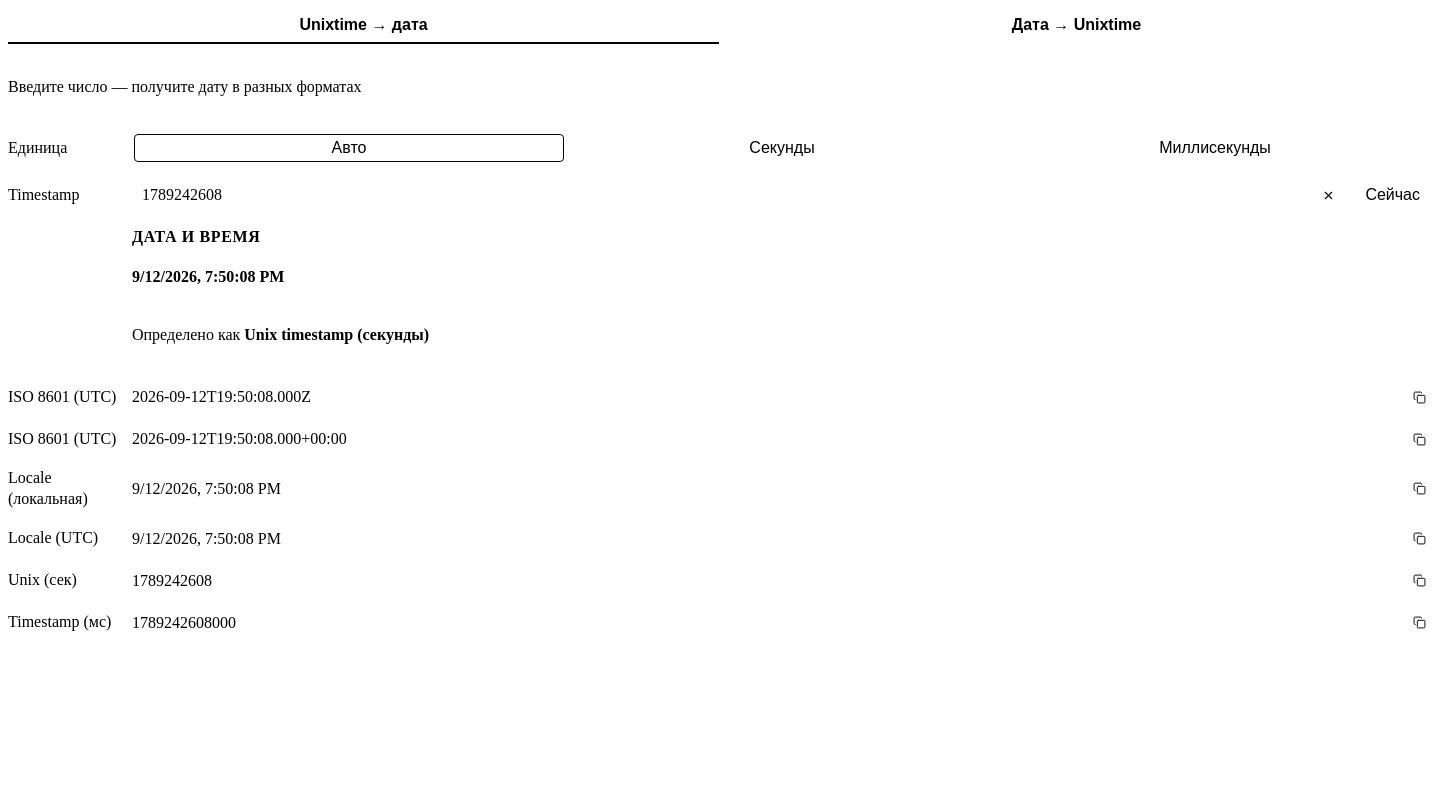
UnixtimeConverter › пустое поле не считается нулём
Click the tab "Дата → Unixtime" at (1076, 26), box [721, 8, 1432, 44]
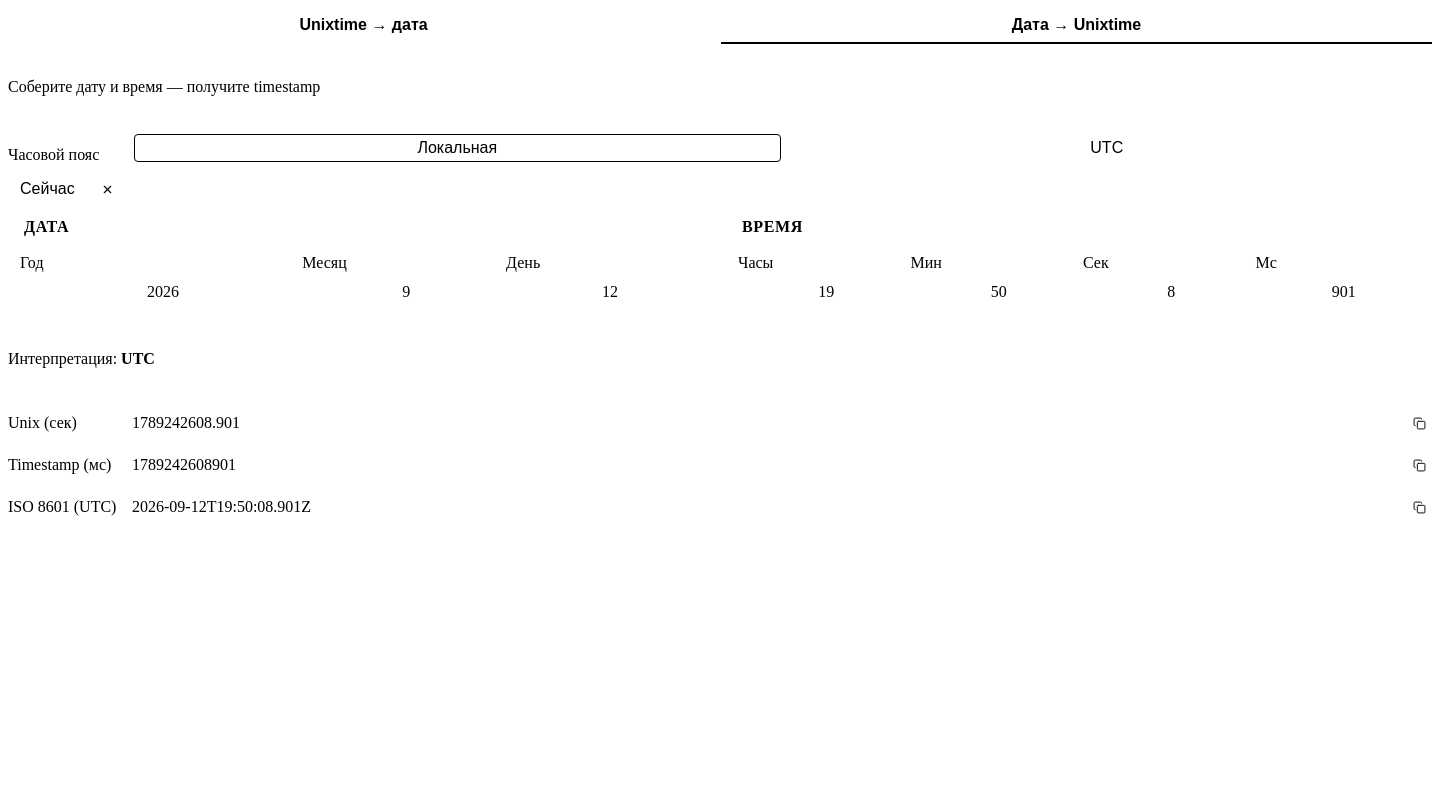
Clear the field labelled "Год" at (163, 292), box [20, 276, 306, 308]
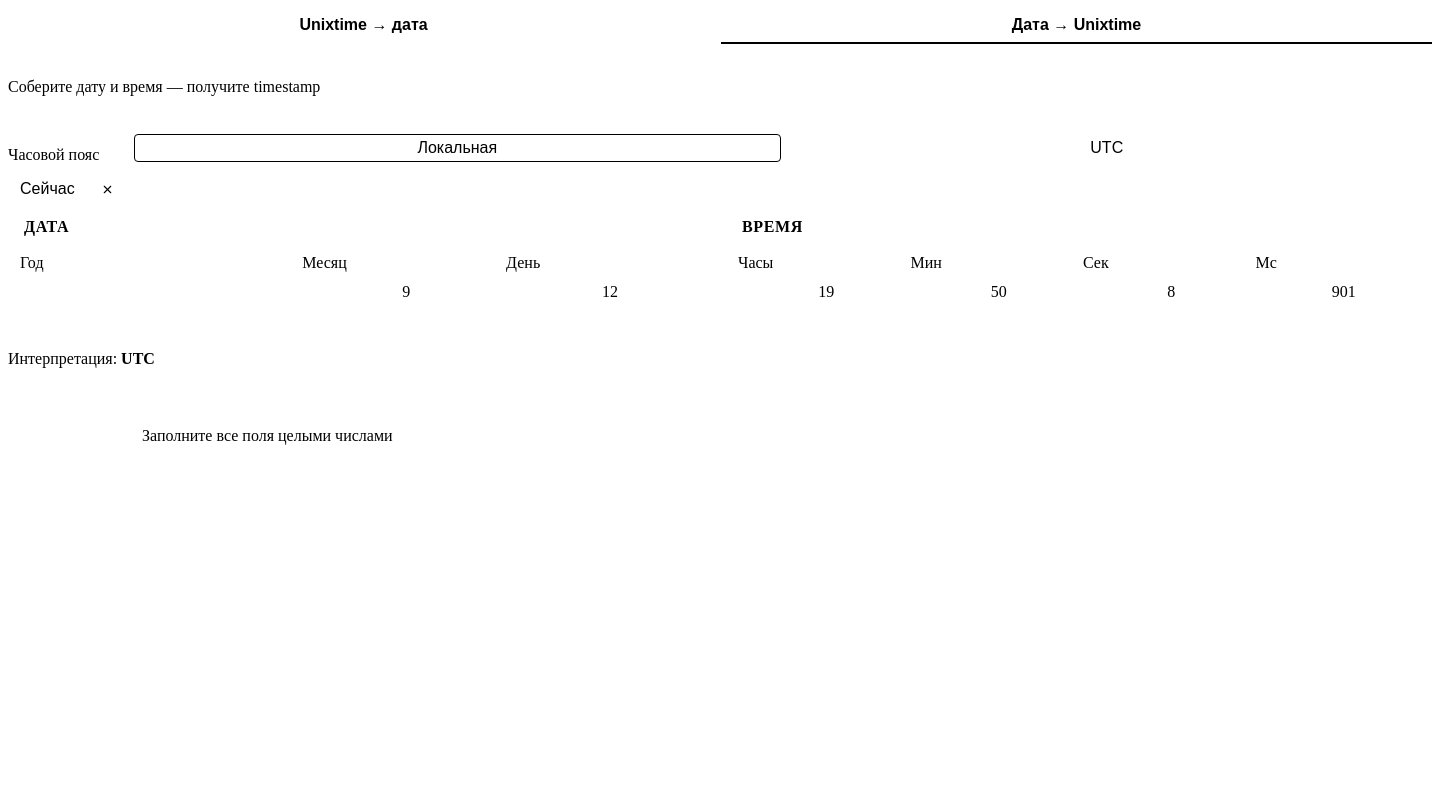
Result: the text "Заполните все поля целыми числами" is shown at [142, 427, 393, 444]
